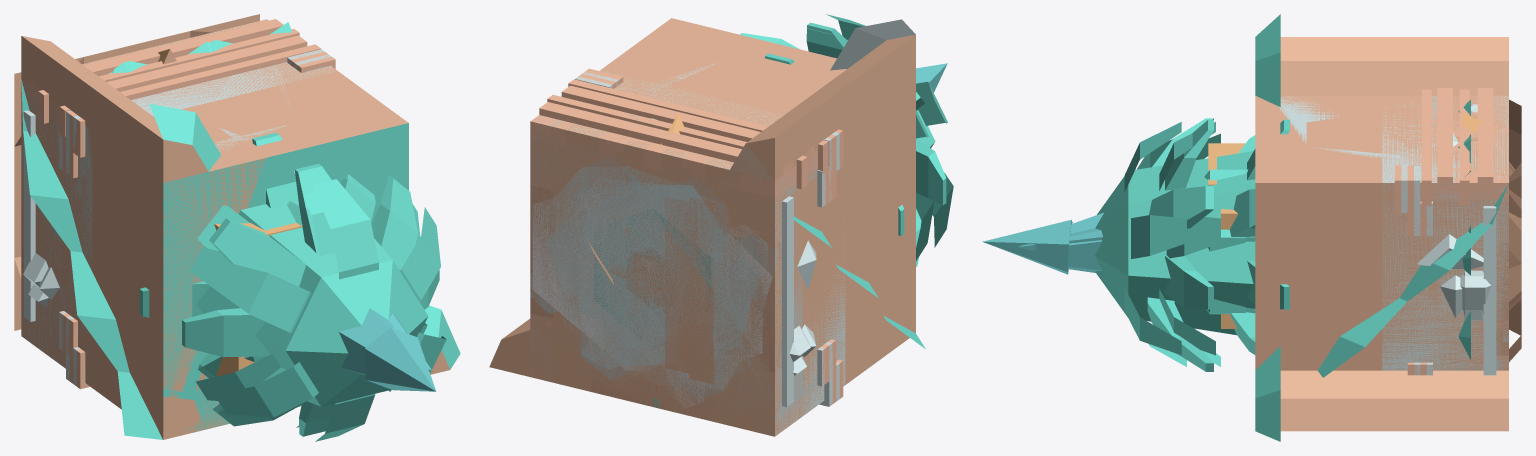
The model's file is nature.glb.
The picture shows the model from 3 angles, left to right: view 1: azimuth 30°, elevation 25°; view 2: azimuth 150°, elevation 25°; view 3: azimuth 270°, elevation 25°; orthographic projection. The views are drawn at different scales.
Parts seen in each view (by area): view 1: cliff_block_rock, tree_palm, tree_default, cliff_blockDiagonal_rock, cliff_diagonal_rock, cliff_blockSlope_rock, cliff_blockCave_rock, cliff_blockHalf_stone, leafs.002, cliff_blockCave_stone, cliff_cornerInnerLarge_rock, fence_planks (+31 smaller); view 2: cliff_block_rock, cliff_diagonal_rock, cliff_blockSlope_rock, cliff_steps_rock, stone_largeD, stone_largeA, cliff_blockSlopeWalls_rock, fence_planks, stone_largeC, cliff_blockCave_rock, stone_largeF, stone_tallA (+49 smaller); view 3: cliff_block_rock, cliff_diagonal_rock, tree_default, cliff_blockHalf_stone, cliff_cornerInnerLarge_rock, tree_palm, cliff_topDiagonal_rock, cliff_blockCave_rock, cliff_blockSlope_rock, tree_pineTallD, leafs.002, fence_planks (+27 smaller).
Part boxes in pixels (left/top/right/bottom): cliff_block_rock: left=21, top=20, right=408, bottom=439; tree_palm: left=209, top=179, right=446, bottom=441; tree_default: left=196, top=201, right=428, bottom=406; cliff_blockDiagonal_rock: left=31, top=136, right=301, bottom=436; cliff_diagonal_rock: left=21, top=36, right=449, bottom=374; cliff_blockSlope_rock: left=21, top=80, right=162, bottom=439; cliff_blockCave_rock: left=210, top=21, right=405, bottom=170; cliff_blockHalf_stone: left=21, top=20, right=334, bottom=385; leafs.002: left=209, top=175, right=418, bottom=426; cliff_blockCave_stone: left=163, top=75, right=408, bottom=418; cliff_cornerInnerLarge_rock: left=84, top=65, right=264, bottom=426; fence_planks: left=30, top=19, right=307, bottom=105; cliff_block_rock: left=530, top=18, right=915, bottom=436; cliff_diagonal_rock: left=489, top=34, right=915, bottom=376; cliff_blockSlope_rock: left=530, top=122, right=925, bottom=435; cliff_steps_rock: left=530, top=126, right=910, bottom=432; stone_largeD: left=538, top=118, right=816, bottom=365; stone_largeA: left=579, top=180, right=726, bottom=369; cliff_blockSlopeWalls_rock: left=530, top=18, right=774, bottom=435; fence_planks: left=539, top=85, right=814, bottom=194; stone_largeC: left=549, top=185, right=806, bottom=393; cliff_blockCave_rock: left=530, top=18, right=846, bottom=432; stone_largeF: left=546, top=183, right=816, bottom=384; stone_tallA: left=532, top=184, right=772, bottom=366; cliff_block_rock: left=1255, top=95, right=1508, bottom=370; cliff_diagonal_rock: left=1280, top=37, right=1508, bottom=431; tree_default: left=1095, top=151, right=1255, bottom=335; cliff_blockHalf_stone: left=1382, top=95, right=1508, bottom=370; cliff_cornerInnerLarge_rock: left=1255, top=95, right=1508, bottom=370; tree_palm: left=1124, top=122, right=1186, bottom=366; cliff_topDiagonal_rock: left=1255, top=14, right=1280, bottom=441; cliff_blockCave_rock: left=1255, top=96, right=1456, bottom=182; cliff_blockSlope_rock: left=1317, top=184, right=1508, bottom=377; tree_pineTallD: left=982, top=212, right=1103, bottom=274; leafs.002: left=1147, top=118, right=1213, bottom=371; fence_planks: left=1436, top=88, right=1508, bottom=182.
Size of the model in its own units: 1.37 by 1.34 by 2.13.
